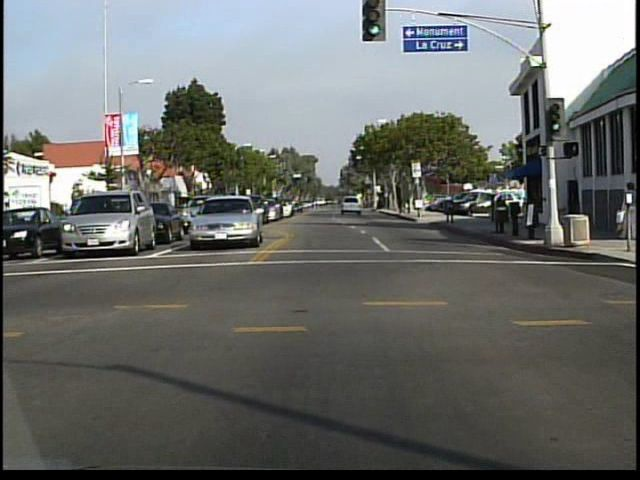person: (613, 176, 638, 242)
